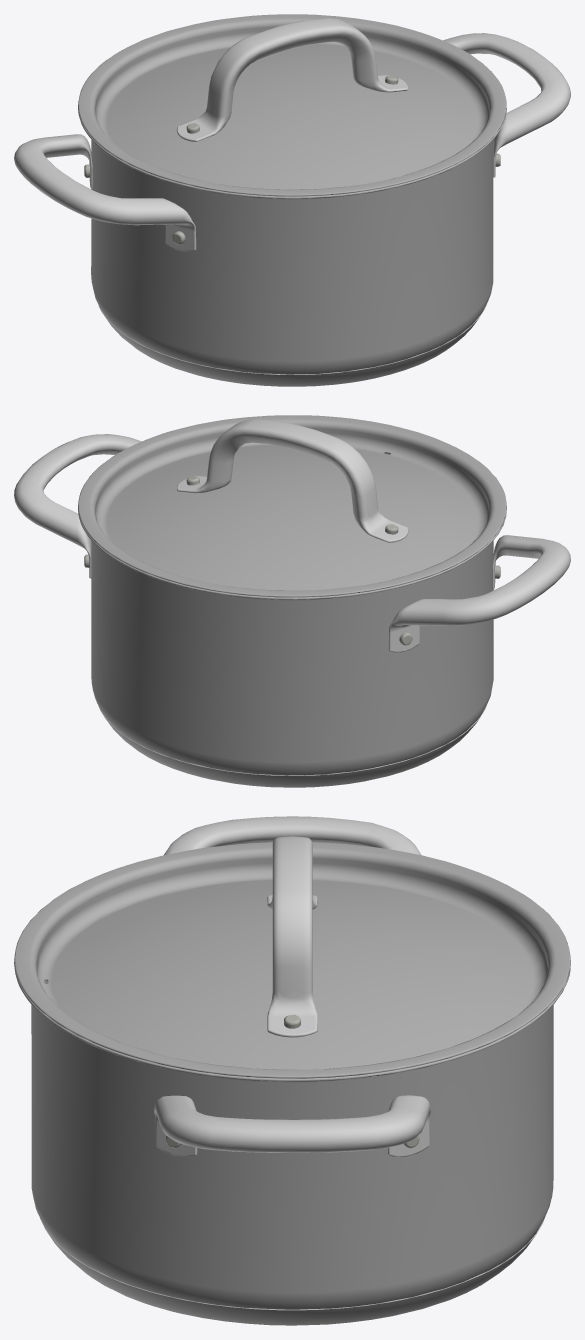
Rendered from ikea_365_garnek_z_pokrywka_90484244.glb.
3 renders of one model, top to bottom at view 1: azimuth 30°, elevation 25°; view 2: azimuth 150°, elevation 25°; view 3: azimuth 270°, elevation 25°, orthographic. The views are drawn at different scales.
Visible parts, largest first — view 1: ikea_365_garnek_z_pokrywka_90484244; view 2: ikea_365_garnek_z_pokrywka_90484244; view 3: ikea_365_garnek_z_pokrywka_90484244.
Part boxes in pixels (left/top/right/bottom): ikea_365_garnek_z_pokrywka_90484244: left=14, top=14, right=570, bottom=386; ikea_365_garnek_z_pokrywka_90484244: left=14, top=415, right=570, bottom=787; ikea_365_garnek_z_pokrywka_90484244: left=14, top=816, right=570, bottom=1325.
Size of the model in its own units: 0.2858 by 0.1525 by 0.2094.
1 material, 1 textured.
